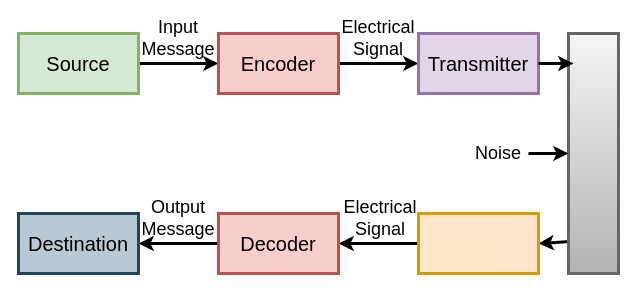
This 637x292 diagram has some shape labels left out. Each missing label, with the centre of its shape:
C H A N N E L: pixel 593 153
Receiver: pixel 478 243
